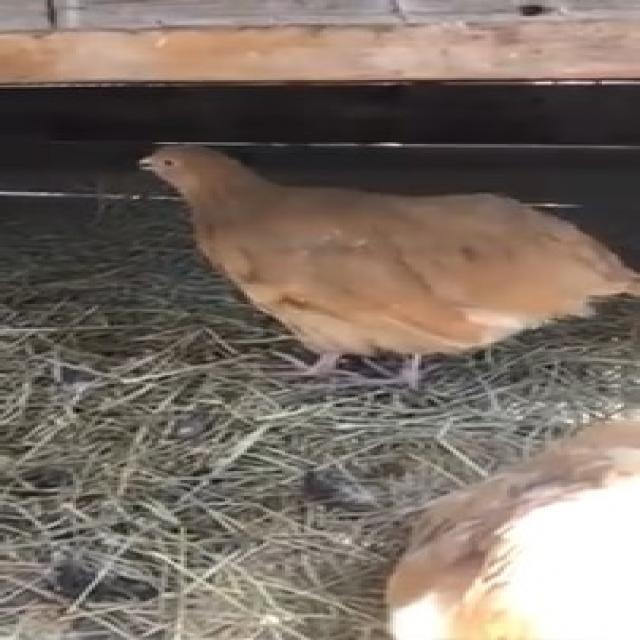Breathing: (133, 140, 637, 390)
